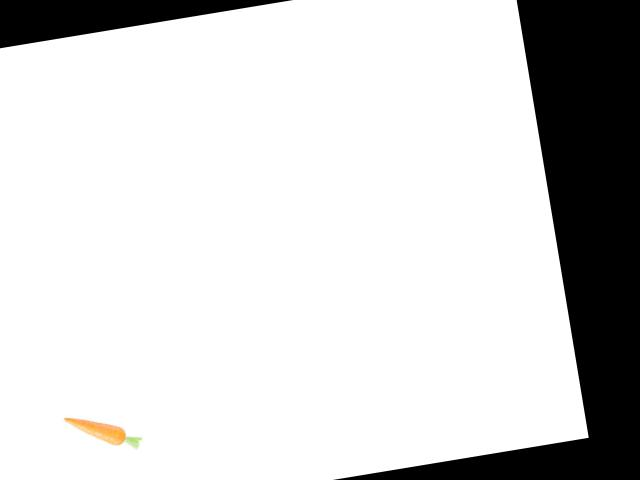carrot: (60, 403, 135, 453)
